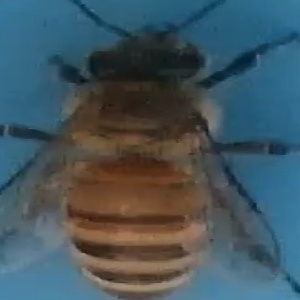bee: (13, 4, 292, 300)
